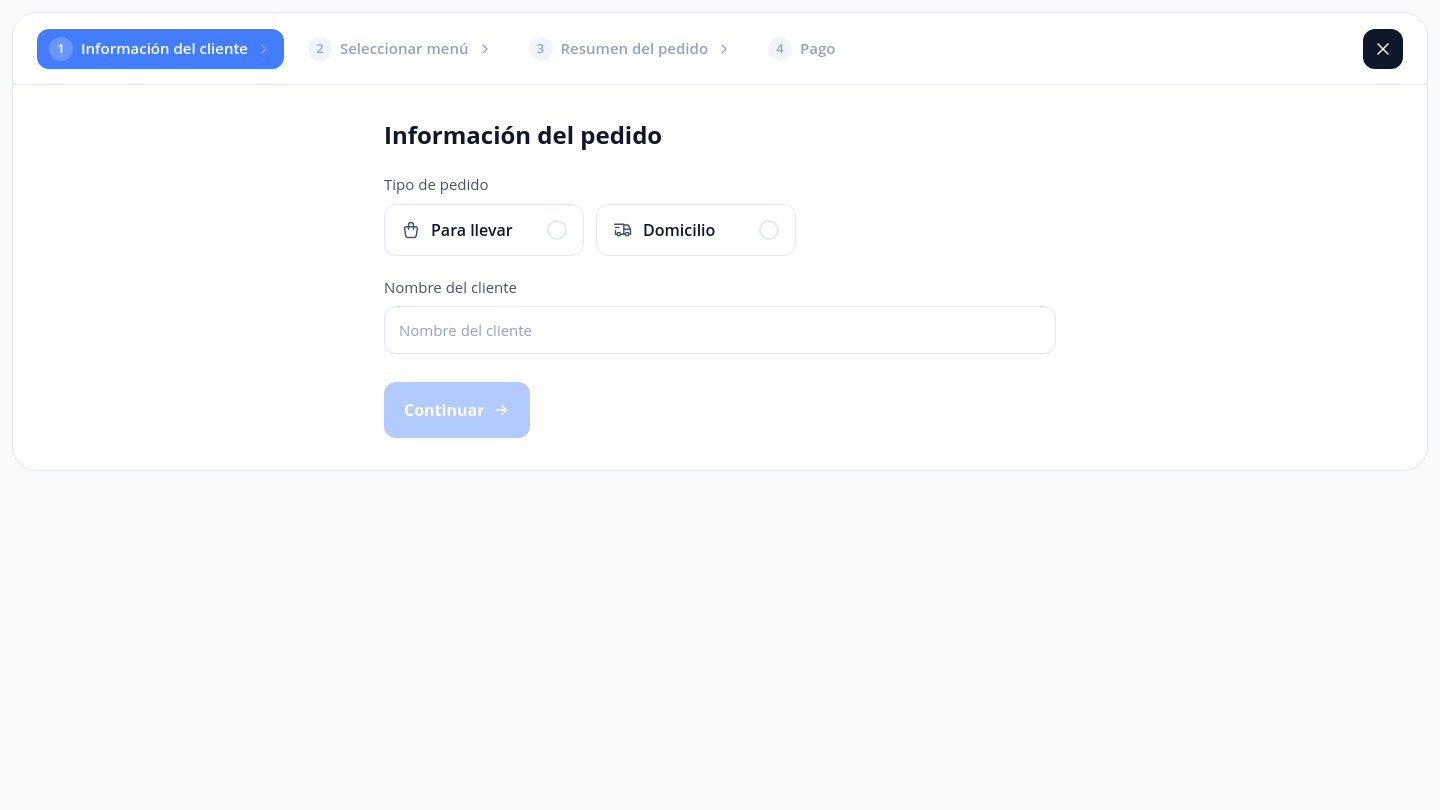
requires an explicit takeaway or delivery choice and never offers dine-in without a table
The width and height of the screenshot is (1440, 810).
Check: the button "Continuar" is disabled, box [384,382,530,438]
What coordinates should you click on to do the following:
click the radio button labelled "Para llevar"
I would click on:
 (484, 230)
Its box is [384,204,584,256].
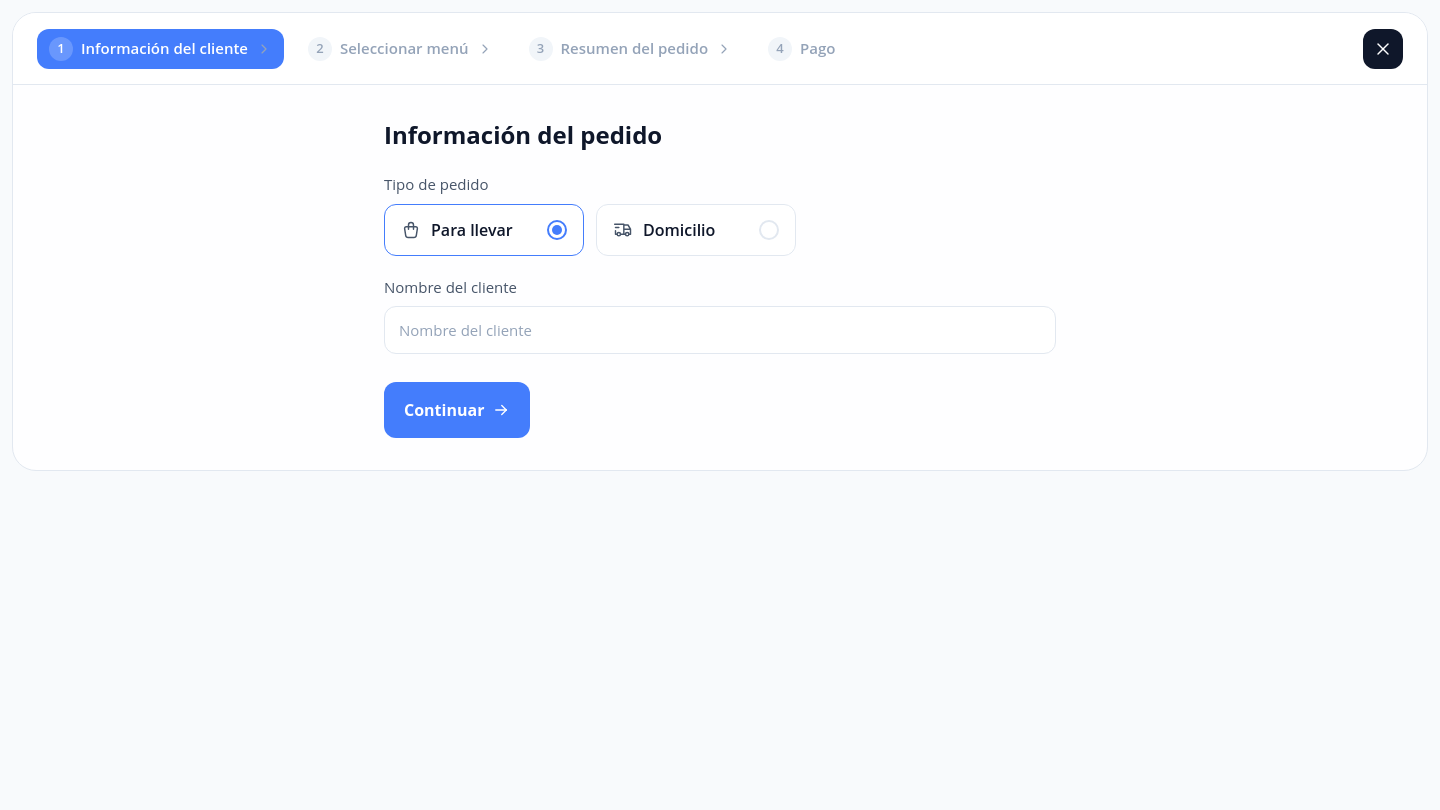
Check: the button "Continuar" is enabled, box [384,382,530,438]
What coordinates should you click on to do the following:
click the radio button labelled "Domicilio"
I would click on:
 (696, 230)
Its box is [596,204,796,256].
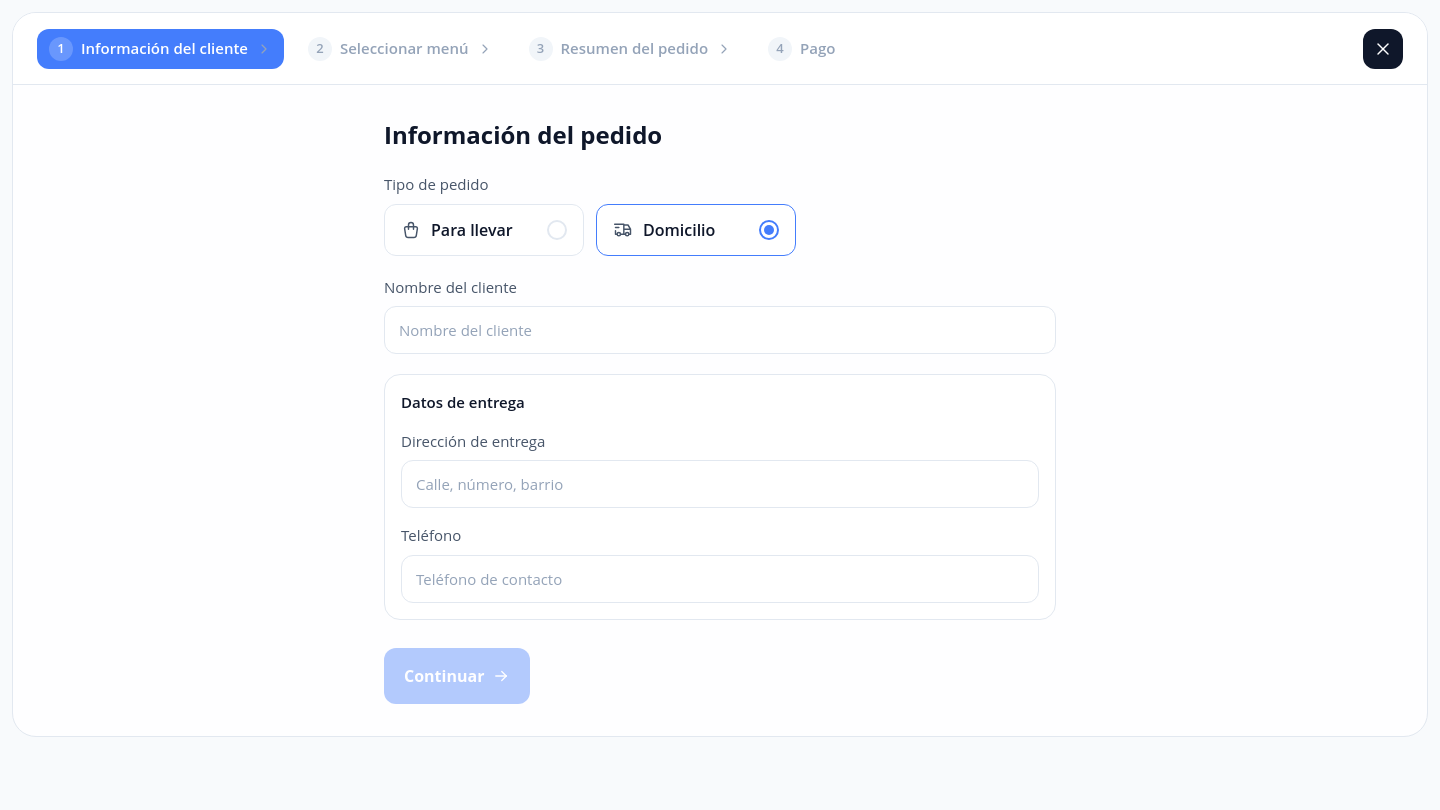
Check: the button "Continuar" is disabled, box [384,648,530,704]
